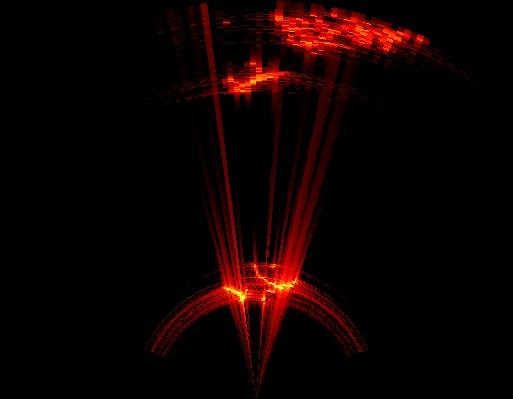shipwreck: (275, 11, 428, 49), (227, 260, 296, 302), (227, 58, 289, 91)
